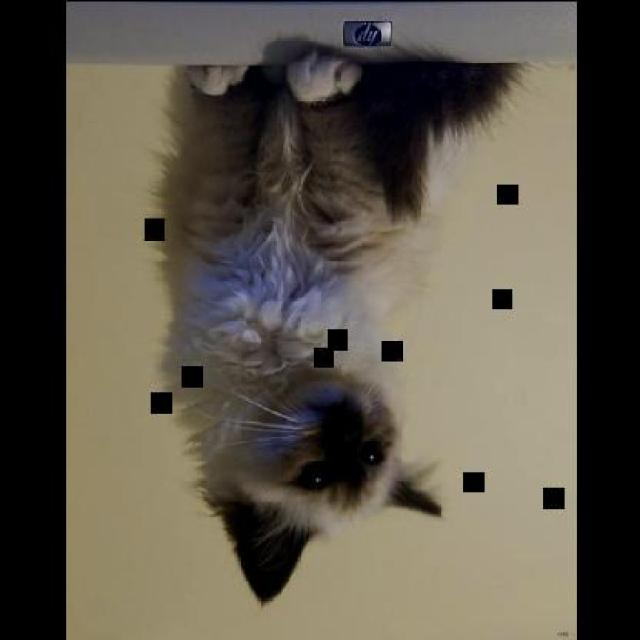unauthorized: (148, 43, 532, 605)
